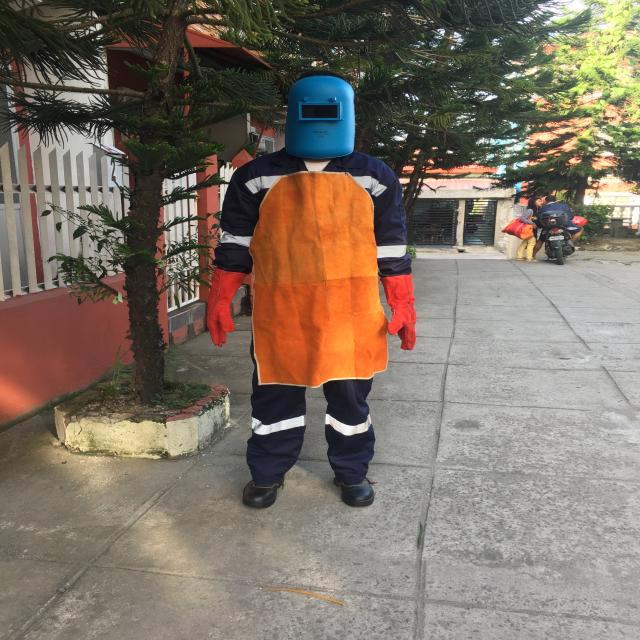with_helmet: (280, 64, 370, 166)
